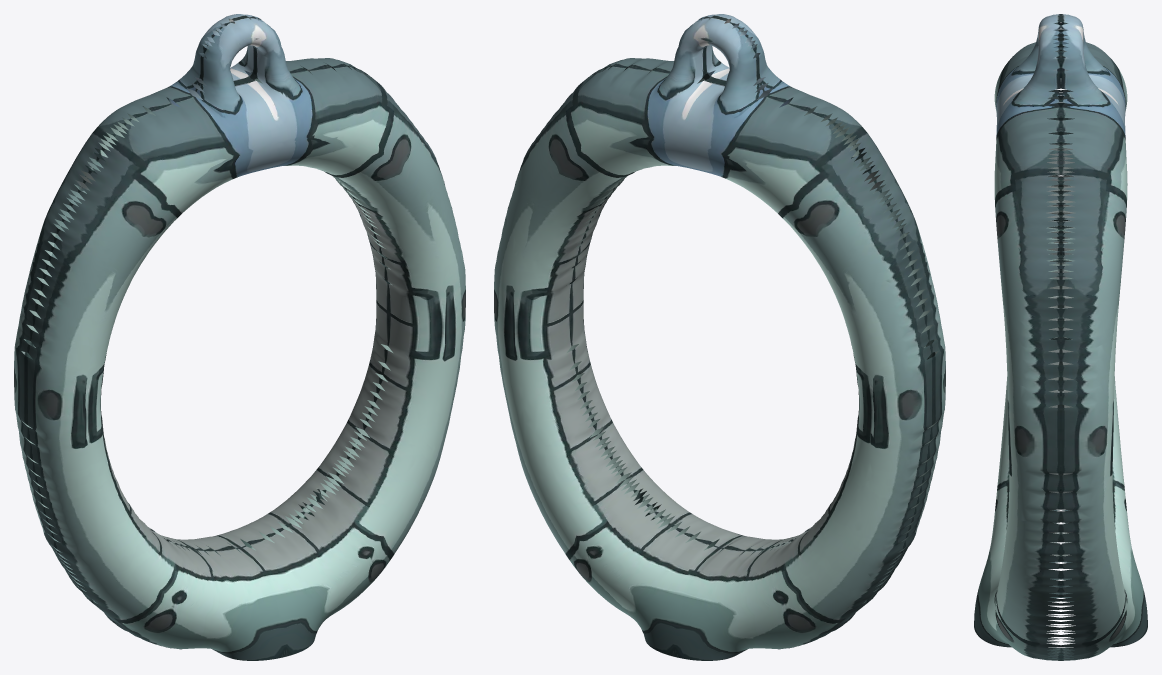
The model's file is porthole.glb.
3 views of the same model, side by side, from view 1: azimuth 30°, elevation 25°; view 2: azimuth 150°, elevation 25°; view 3: azimuth 270°, elevation 25° (orthographic).
Visible parts, largest first — view 1: porthole; view 2: porthole; view 3: porthole.
Part boxes in pixels (x1,y1,x2,y2): porthole: [14, 14, 465, 660]; porthole: [494, 14, 945, 660]; porthole: [974, 14, 1147, 660].
Size of the model in its own units: 0.9851 by 1.34 by 0.3472.
1 material, 1 textured.
